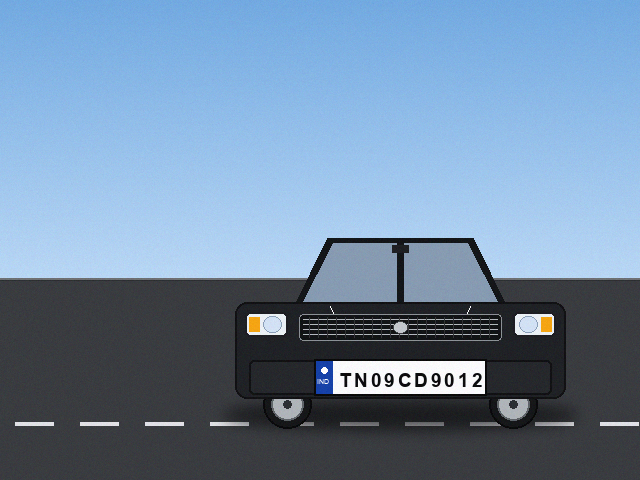licence: (314, 359, 486, 395)
